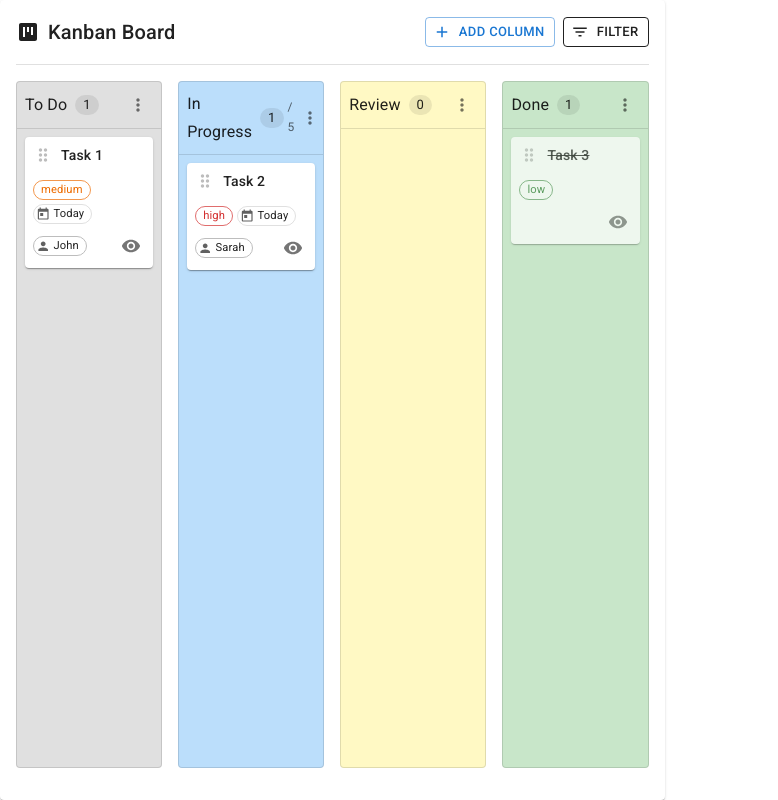
Test: TaskKanbanBoard › opens filter menu when Filter button is clicked
Click the button "Filter": (606, 32) [563,17,649,47]
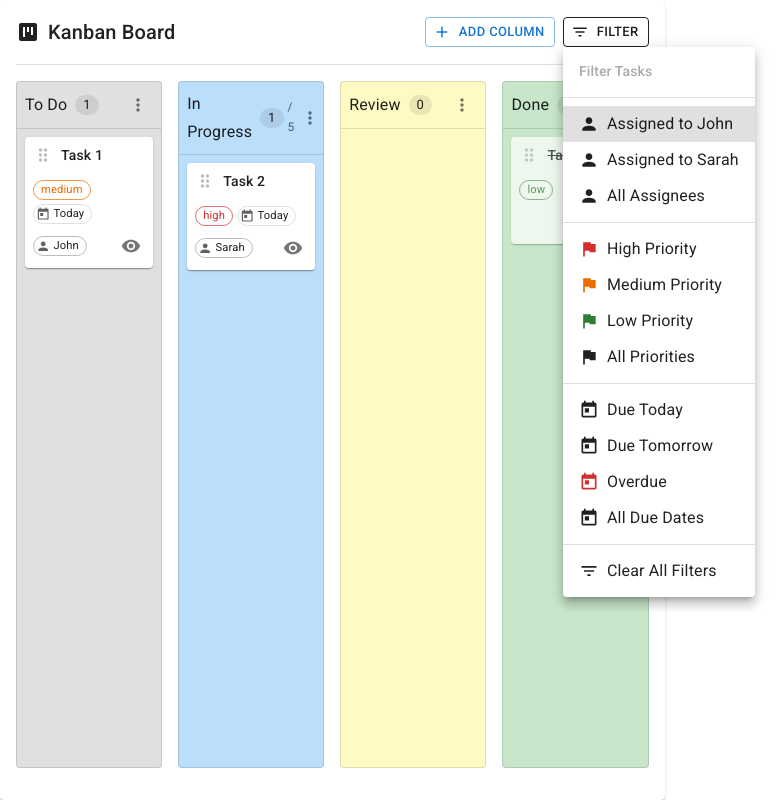
Now the heading "Filter Tasks" is shown, box [579,61,652,83]
